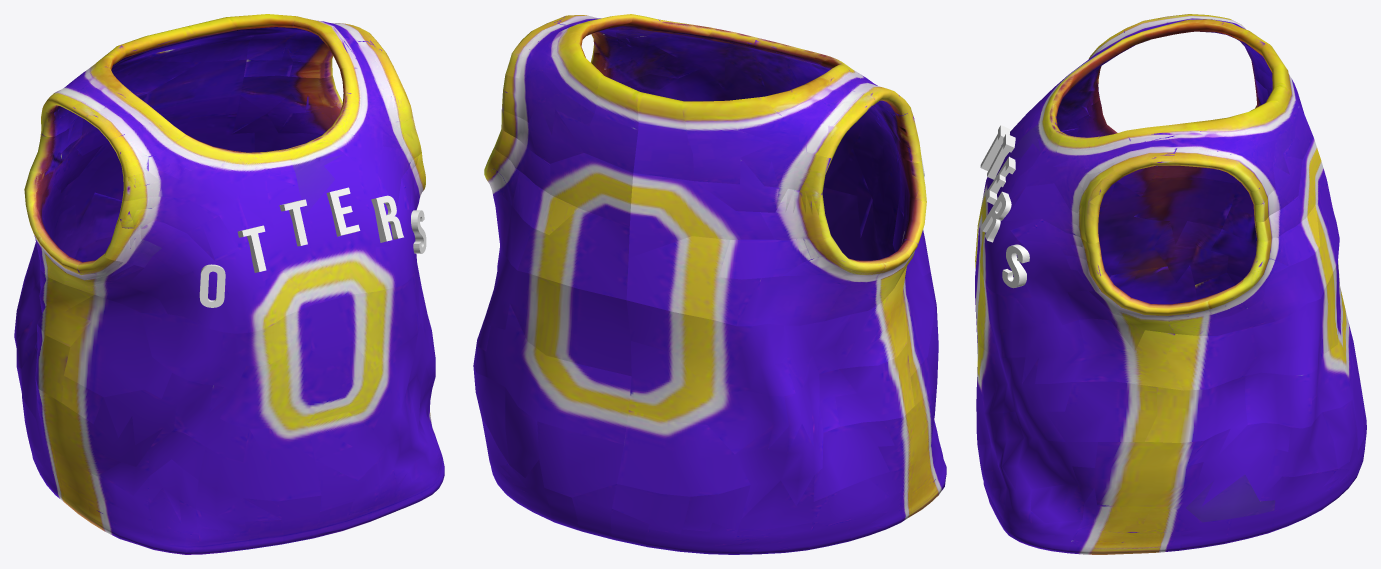
The model's file is Basketball-Purple.glb.
3 renders of one model, left to right at view 1: azimuth 30°, elevation 25°; view 2: azimuth 150°, elevation 25°; view 3: azimuth 270°, elevation 25°, orthographic. The views are drawn at different scales.
Parts seen in each view (by area): view 1: Basketball-Purple; view 2: Basketball-Purple; view 3: Basketball-Purple.
Part boxes in pixels (<box>): Basketball-Purple: <box>14,14,444,554</box>; Basketball-Purple: <box>473,14,946,554</box>; Basketball-Purple: <box>975,14,1366,554</box>.
Size of the model in its own units: 0.3436 by 0.364 by 0.316.
2 materials, 1 textured.
